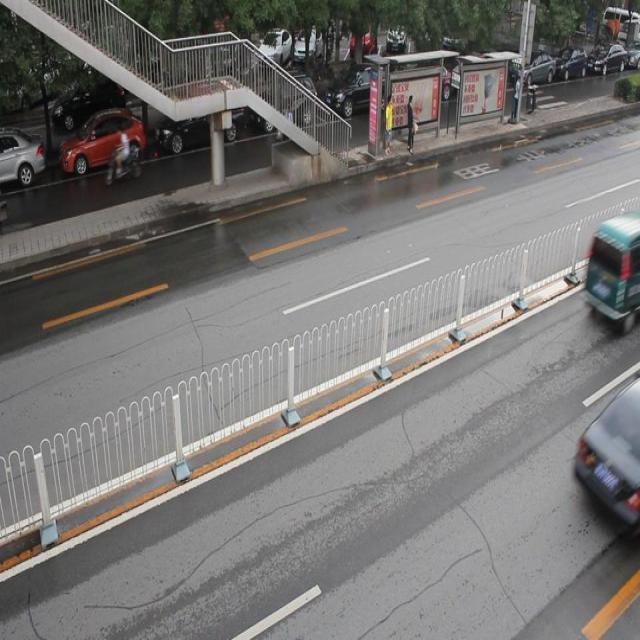car: (569, 385, 640, 529), (61, 109, 145, 172), (156, 98, 244, 151), (246, 80, 319, 138), (324, 69, 396, 124), (1, 125, 46, 188)
truck: (580, 212, 640, 328)
